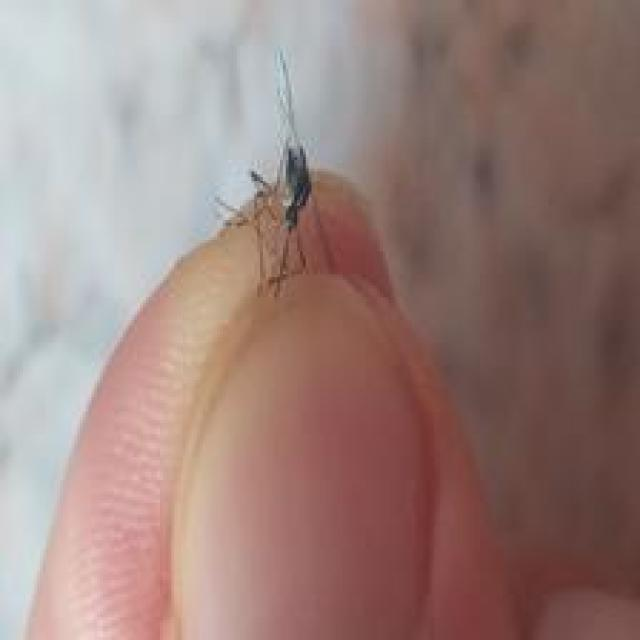Aedes albopictus: (215, 47, 332, 299)
